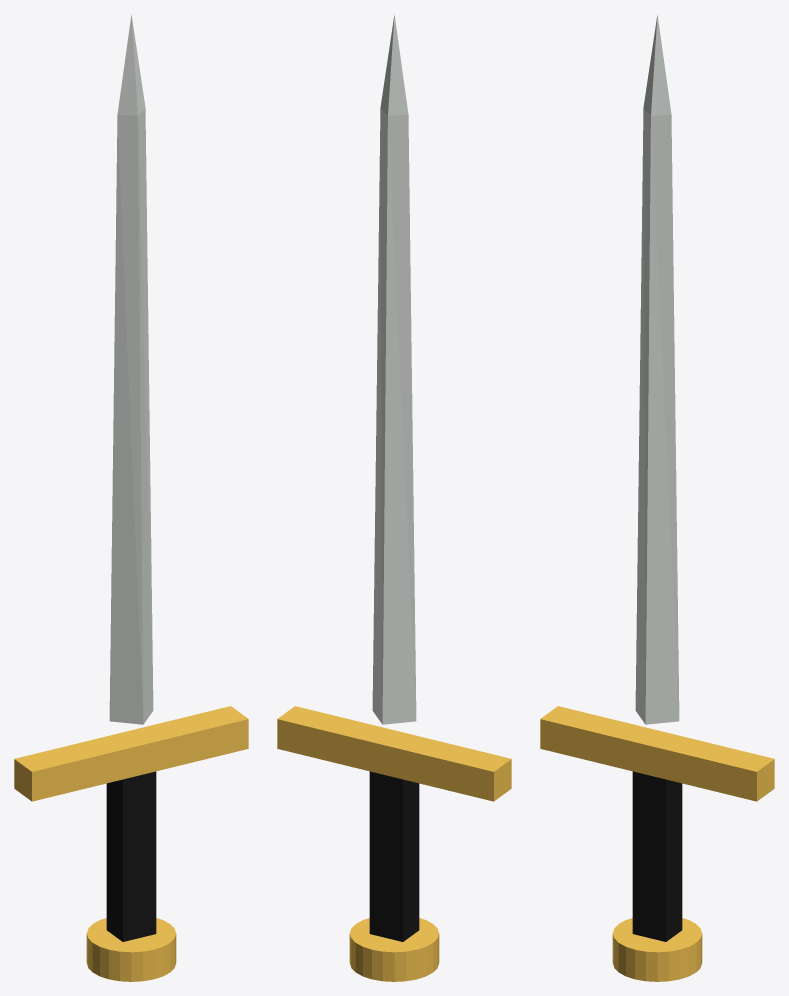
Rendered from sword_01_classic_knight.obj.
3 views of the same model, side by side, from view 1: azimuth 30°, elevation 25°; view 2: azimuth 150°, elevation 25°; view 3: azimuth 330°, elevation 25° (orthographic).
Bounding box in the file's own units: 0.42 × 1.76 × 0.15.
